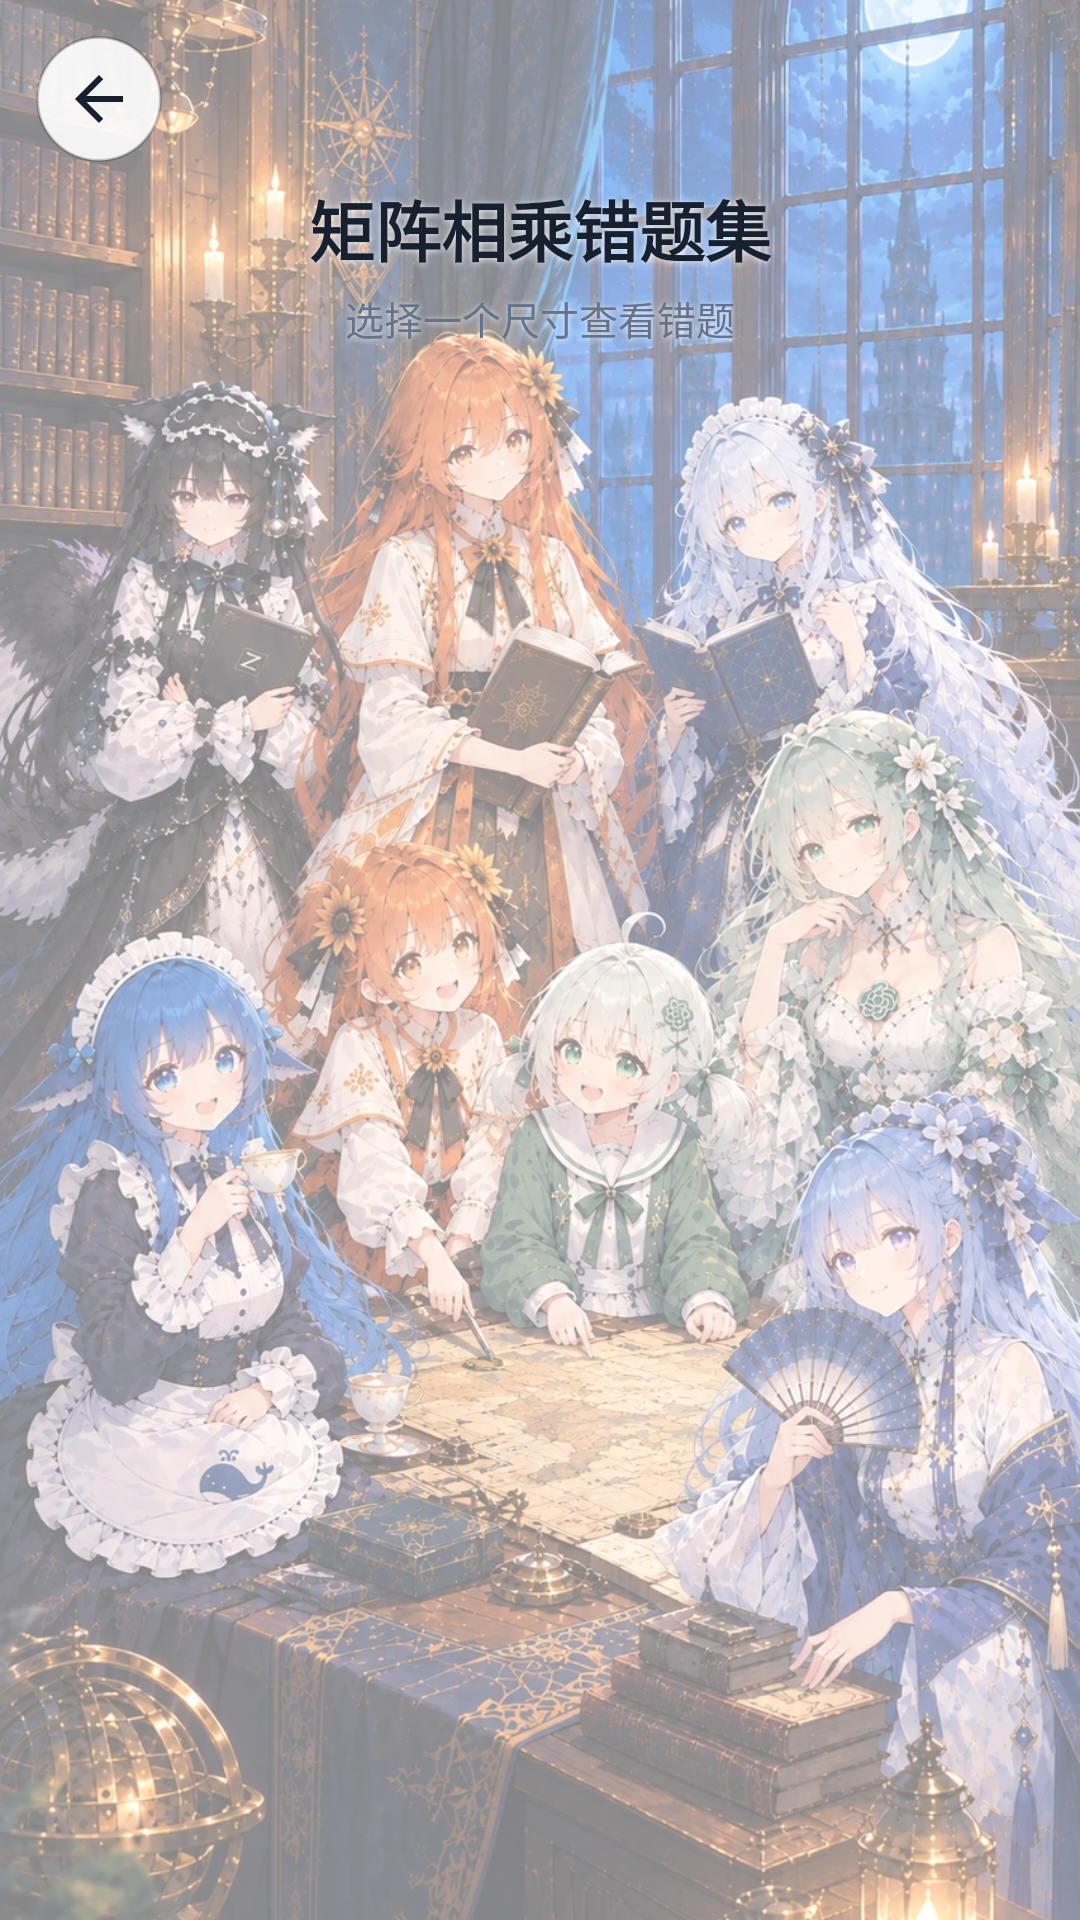

Icons on this 1080px x 1920px Android screen, each with the point to tap as (x,y):
返回: (99,99)
